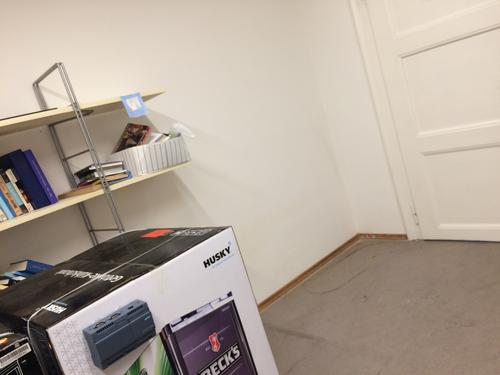iot2000: (82, 298, 158, 371)
